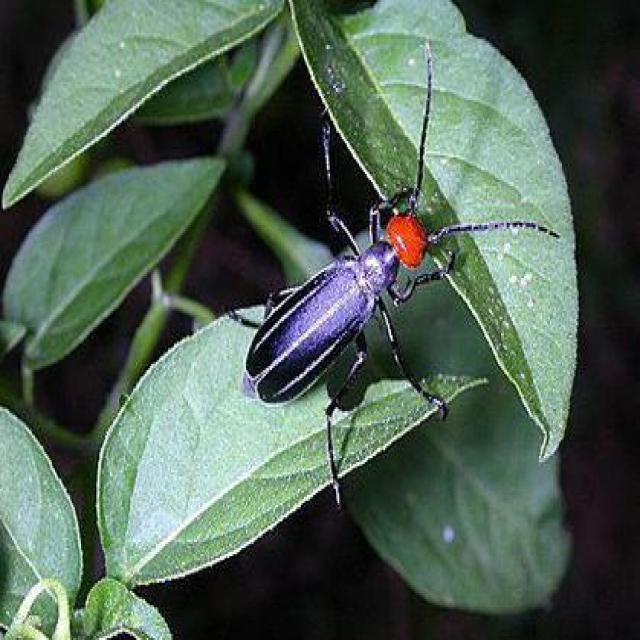BlisterBeetle-Adult-: (239, 33, 555, 436)
